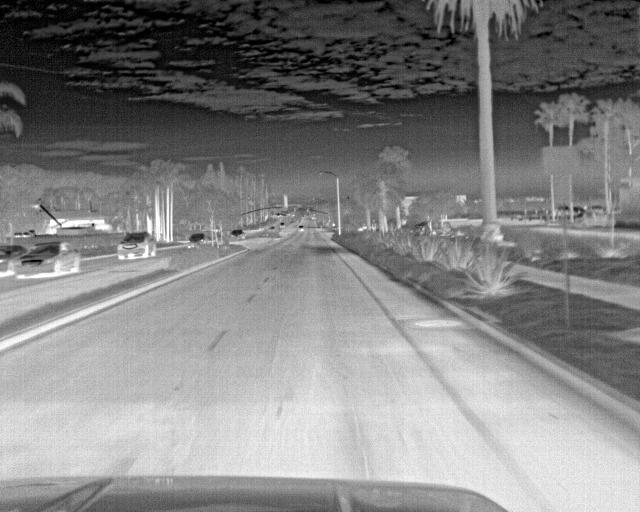car: (15, 242, 78, 279), (115, 230, 158, 261), (0, 244, 28, 276), (187, 230, 209, 249), (229, 228, 248, 243)
